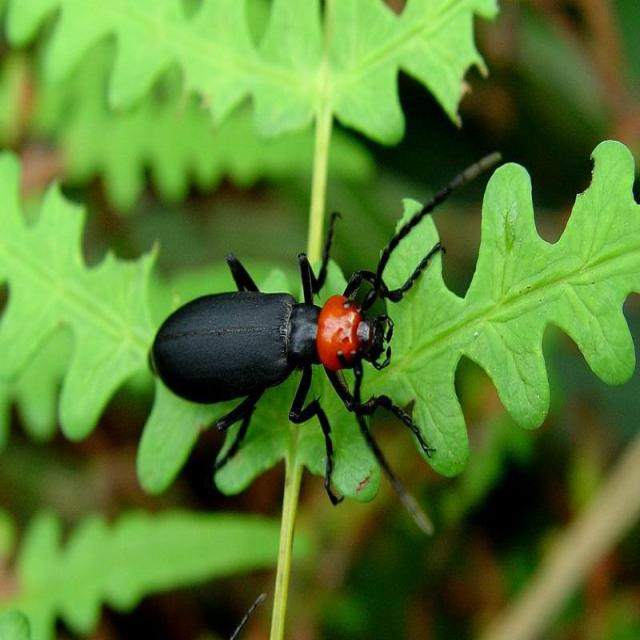BlisterBeetle-Adult-: (131, 153, 499, 505)
